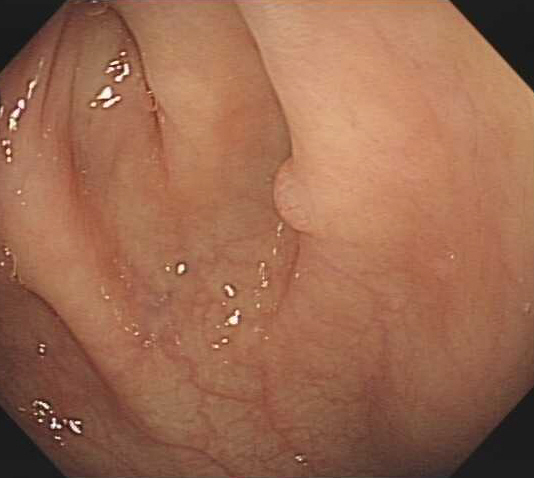adenoma: (269, 150, 321, 241)
